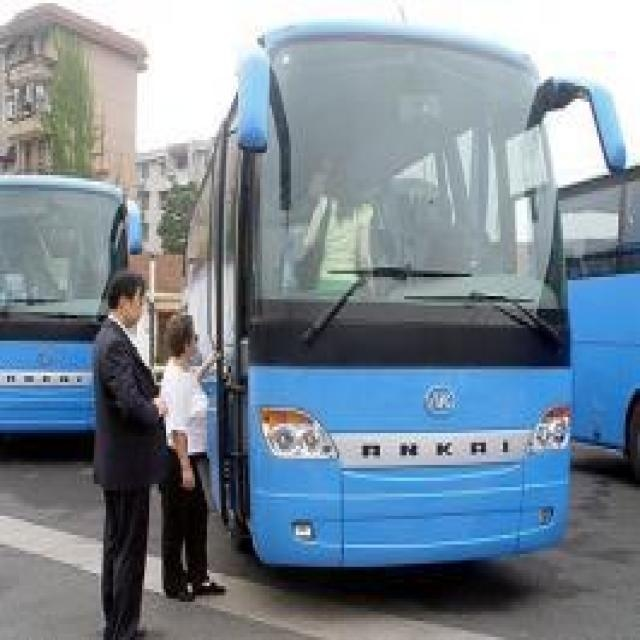Bus: (178, 9, 628, 580), (0, 150, 149, 449)
